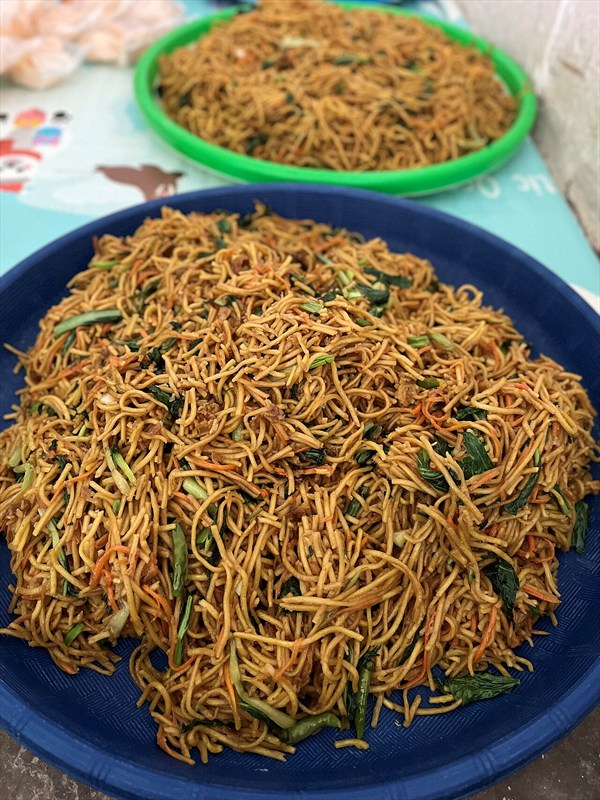Mie Goreng: (54, 165, 501, 661)
